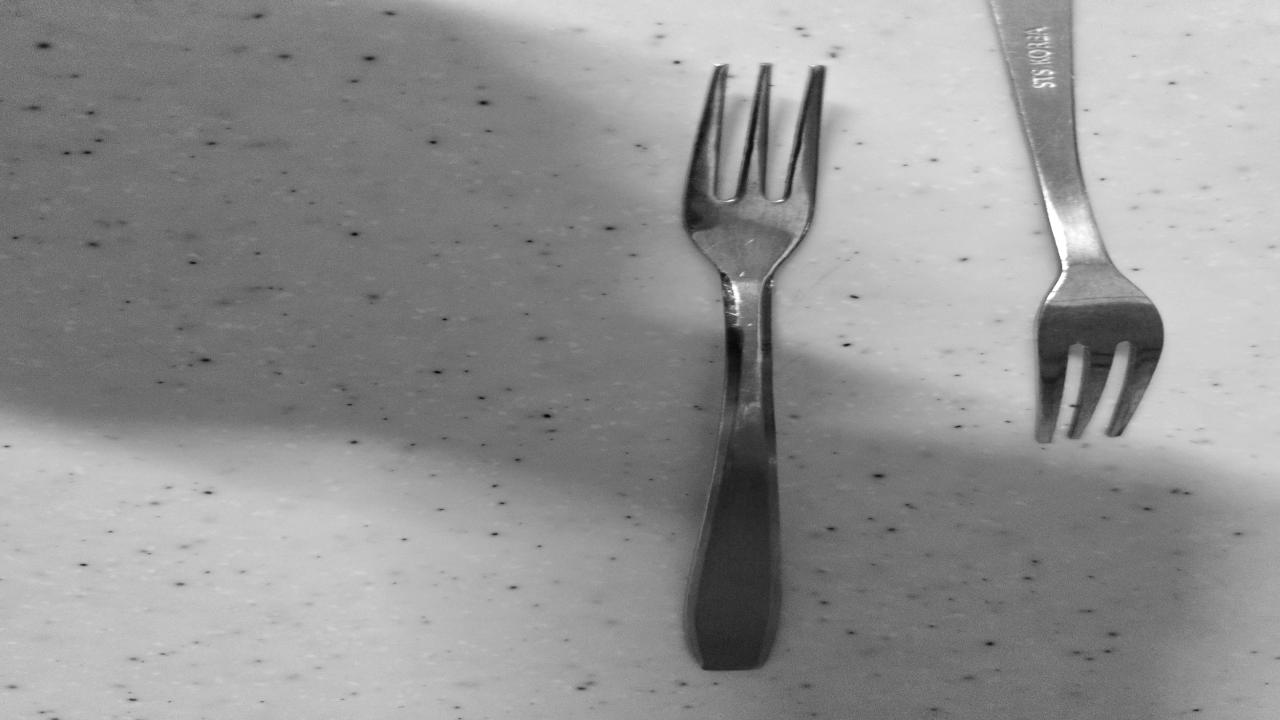fork: (670, 57, 826, 662), (952, 2, 1165, 440)
